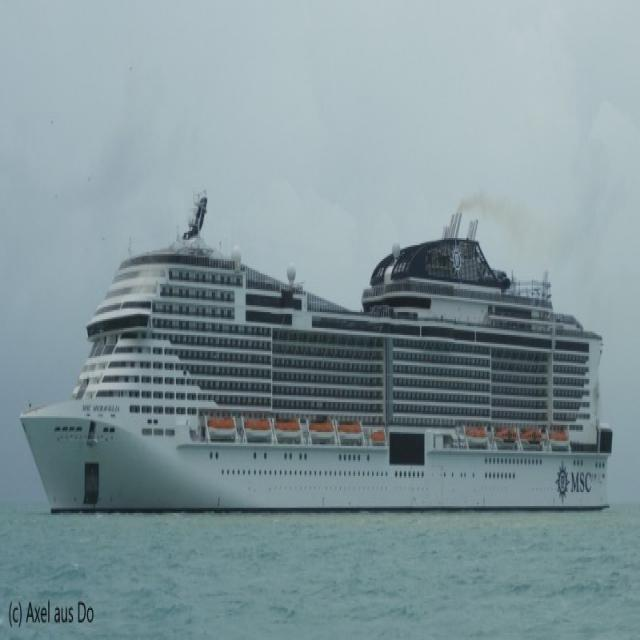cruises: (19, 183, 622, 514)
